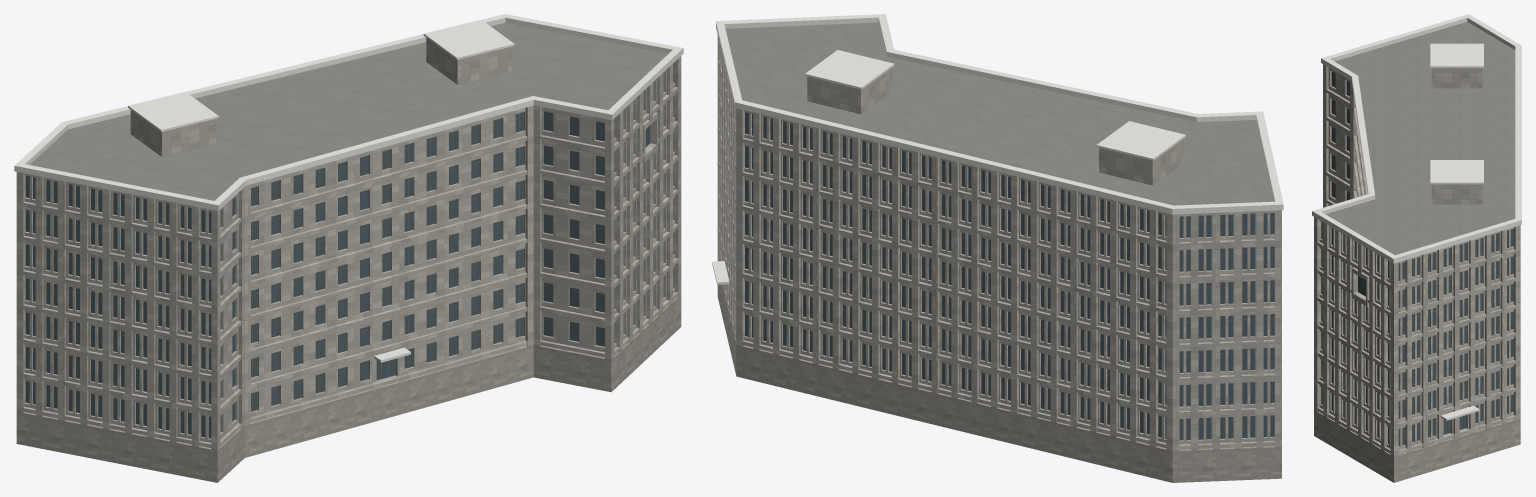
The picture shows the model from 3 angles, left to right: view 1: azimuth 30°, elevation 25°; view 2: azimuth 150°, elevation 25°; view 3: azimuth 270°, elevation 25°; orthographic projection. The views are drawn at different scales.
Visible parts, largest first — view 1: hanaScienceB__stone, hanaScienceB__roof, hanaScienceB__glass, hanaScienceB__granite, hanaScienceB__trim, hanaScienceB__frame; view 2: hanaScienceB__stone, hanaScienceB__roof, hanaScienceB__glass, hanaScienceB__granite, hanaScienceB__trim, hanaScienceB__frame; view 3: hanaScienceB__stone, hanaScienceB__roof, hanaScienceB__trim, hanaScienceB__glass, hanaScienceB__granite, hanaScienceB__frame.
Boxes of the visible parts, bbox=[...] form: hanaScienceB__stone: bbox=[16, 38, 681, 450]; hanaScienceB__roof: bbox=[30, 22, 668, 200]; hanaScienceB__glass: bbox=[25, 72, 663, 438]; hanaScienceB__granite: bbox=[16, 295, 681, 482]; hanaScienceB__trim: bbox=[14, 14, 683, 362]; hanaScienceB__frame: bbox=[25, 74, 673, 421]; hanaScienceB__stone: bbox=[717, 35, 1281, 451]; hanaScienceB__roof: bbox=[725, 22, 1273, 205]; hanaScienceB__glass: bbox=[745, 112, 1274, 440]; hanaScienceB__granite: bbox=[717, 284, 1281, 482]; hanaScienceB__trim: bbox=[712, 14, 1283, 284]; hanaScienceB__frame: bbox=[745, 116, 1274, 423]; hanaScienceB__stone: bbox=[1314, 64, 1520, 456]; hanaScienceB__roof: bbox=[1326, 21, 1515, 255]; hanaScienceB__trim: bbox=[1312, 14, 1521, 420]; hanaScienceB__glass: bbox=[1321, 71, 1512, 446]; hanaScienceB__granite: bbox=[1314, 410, 1520, 482]; hanaScienceB__frame: bbox=[1321, 73, 1513, 433].
Size of the model in its own units: 79.99 by 37.05 by 28.92.
Materials: 6 (3 with a texture image).
